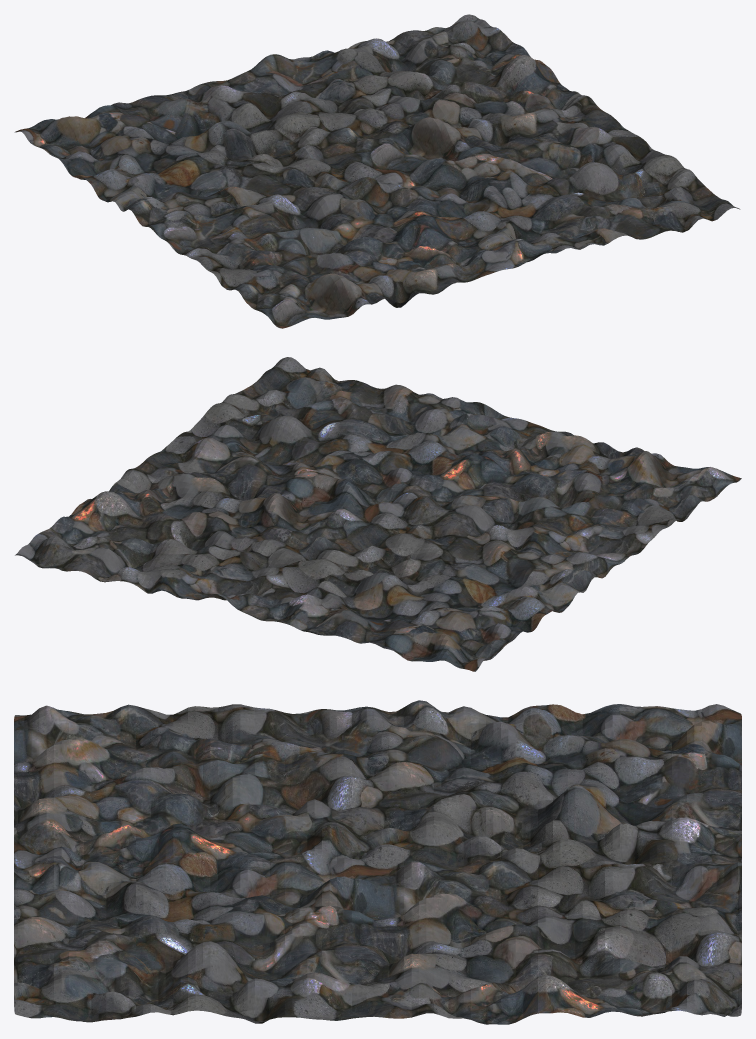
The model's file is tank-1-100.fbx.
3 renders of one model, top to bottom at view 1: azimuth 30°, elevation 25°; view 2: azimuth 150°, elevation 25°; view 3: azimuth 270°, elevation 25°, orthographic. The views are drawn at different scales.
Visible parts, largest first — view 1: Grid; view 2: Grid; view 3: Grid.
Boxes of the visible parts, box(x1,y1,x2,y2) form: Grid: box(14, 14, 740, 328); Grid: box(15, 357, 741, 671); Grid: box(14, 700, 741, 1024).
Size of the model in its own units: 1580 by 114 by 1580.
